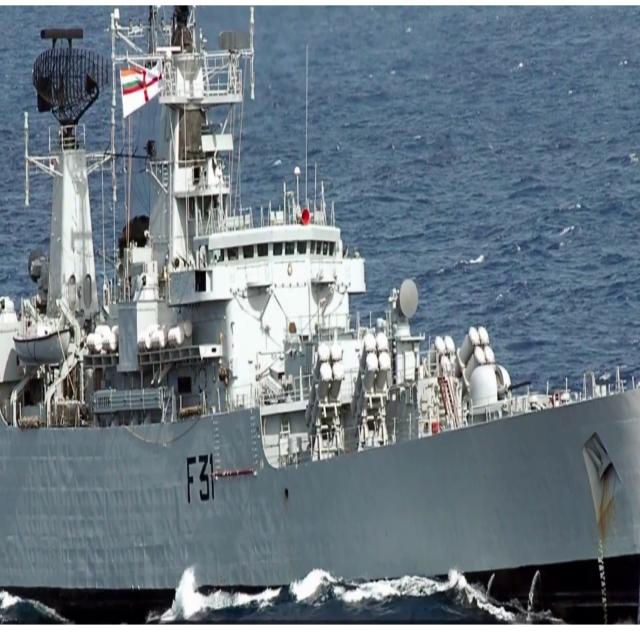OCR: (183, 448, 216, 508)
